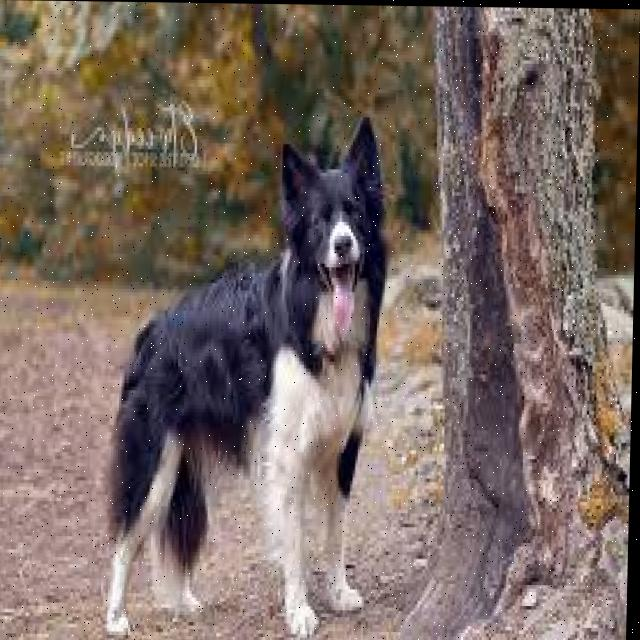ALASKAN_MALAMUTE: (93, 105, 403, 640)
